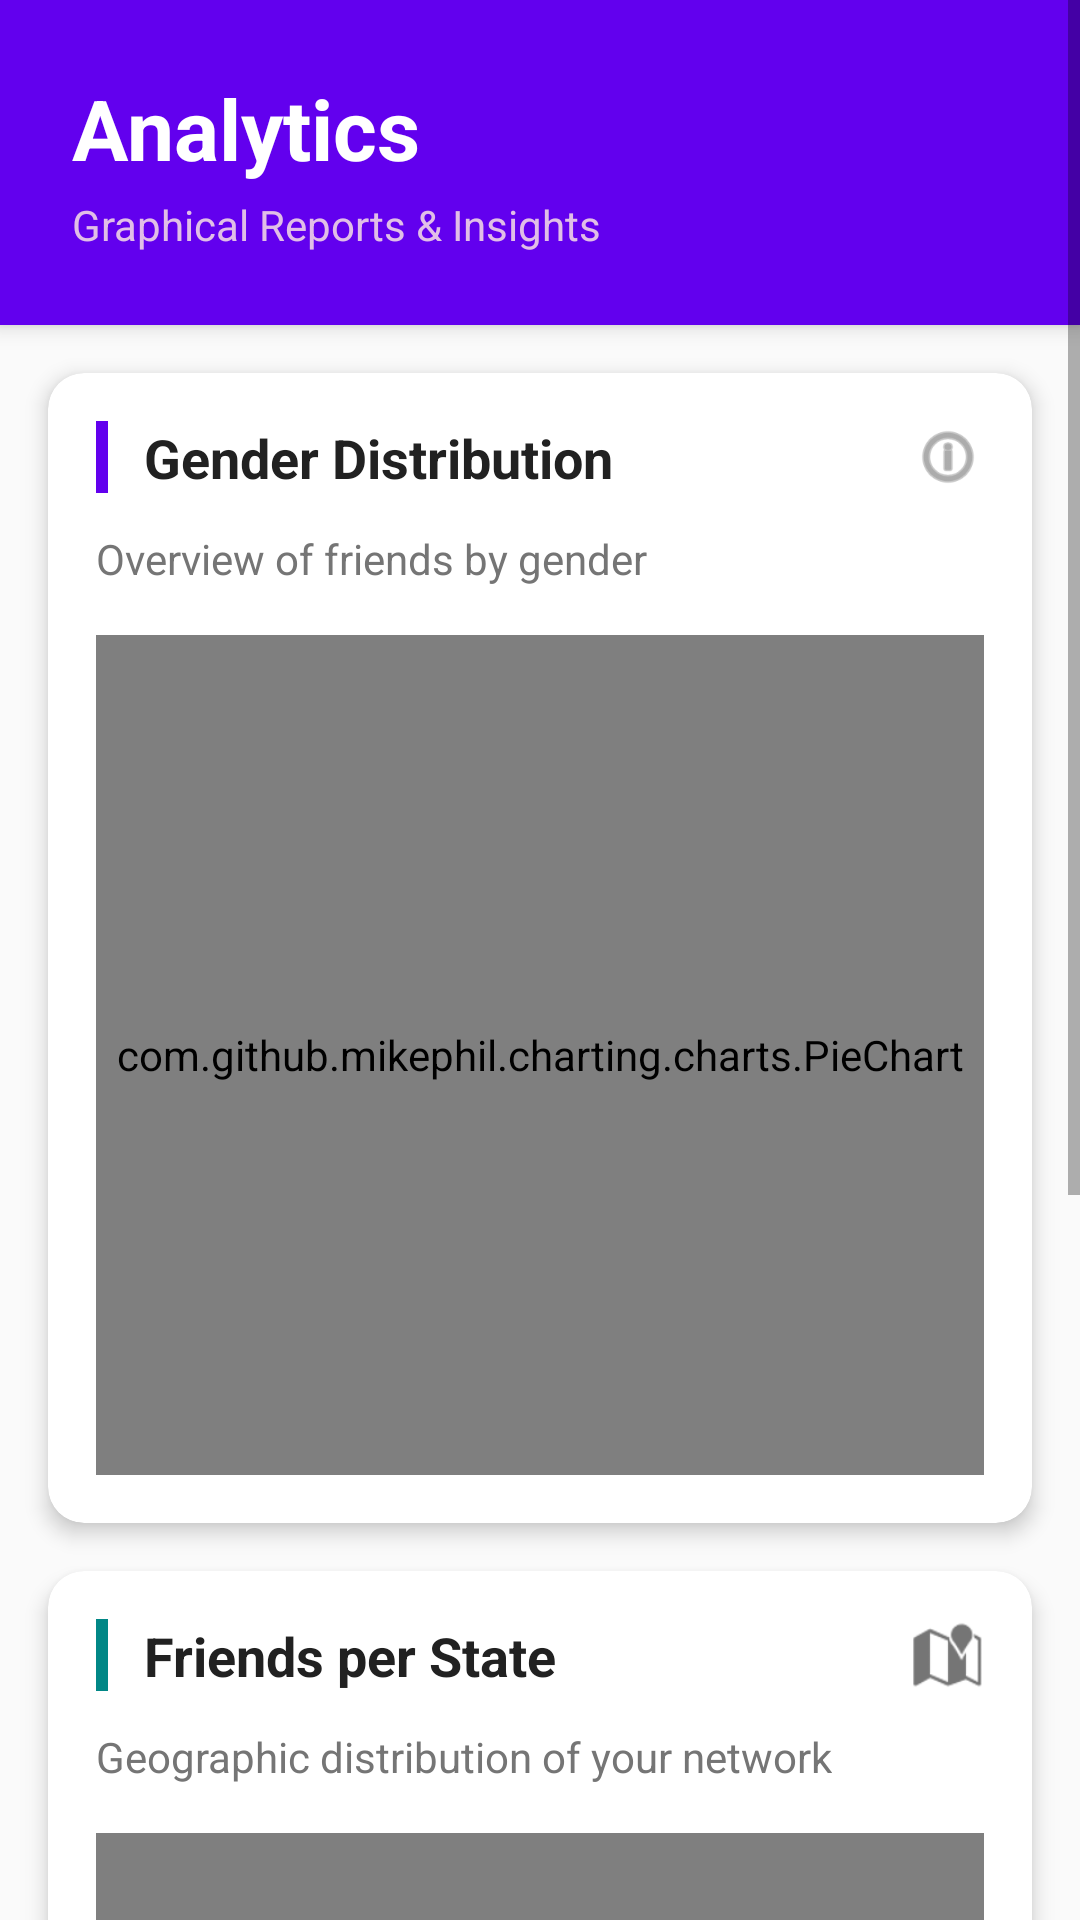

Icons on this 1080 x 1920 Android screen, each with the point to tap as [x,y]:
info details: [948,457]
map: [947,1655]
